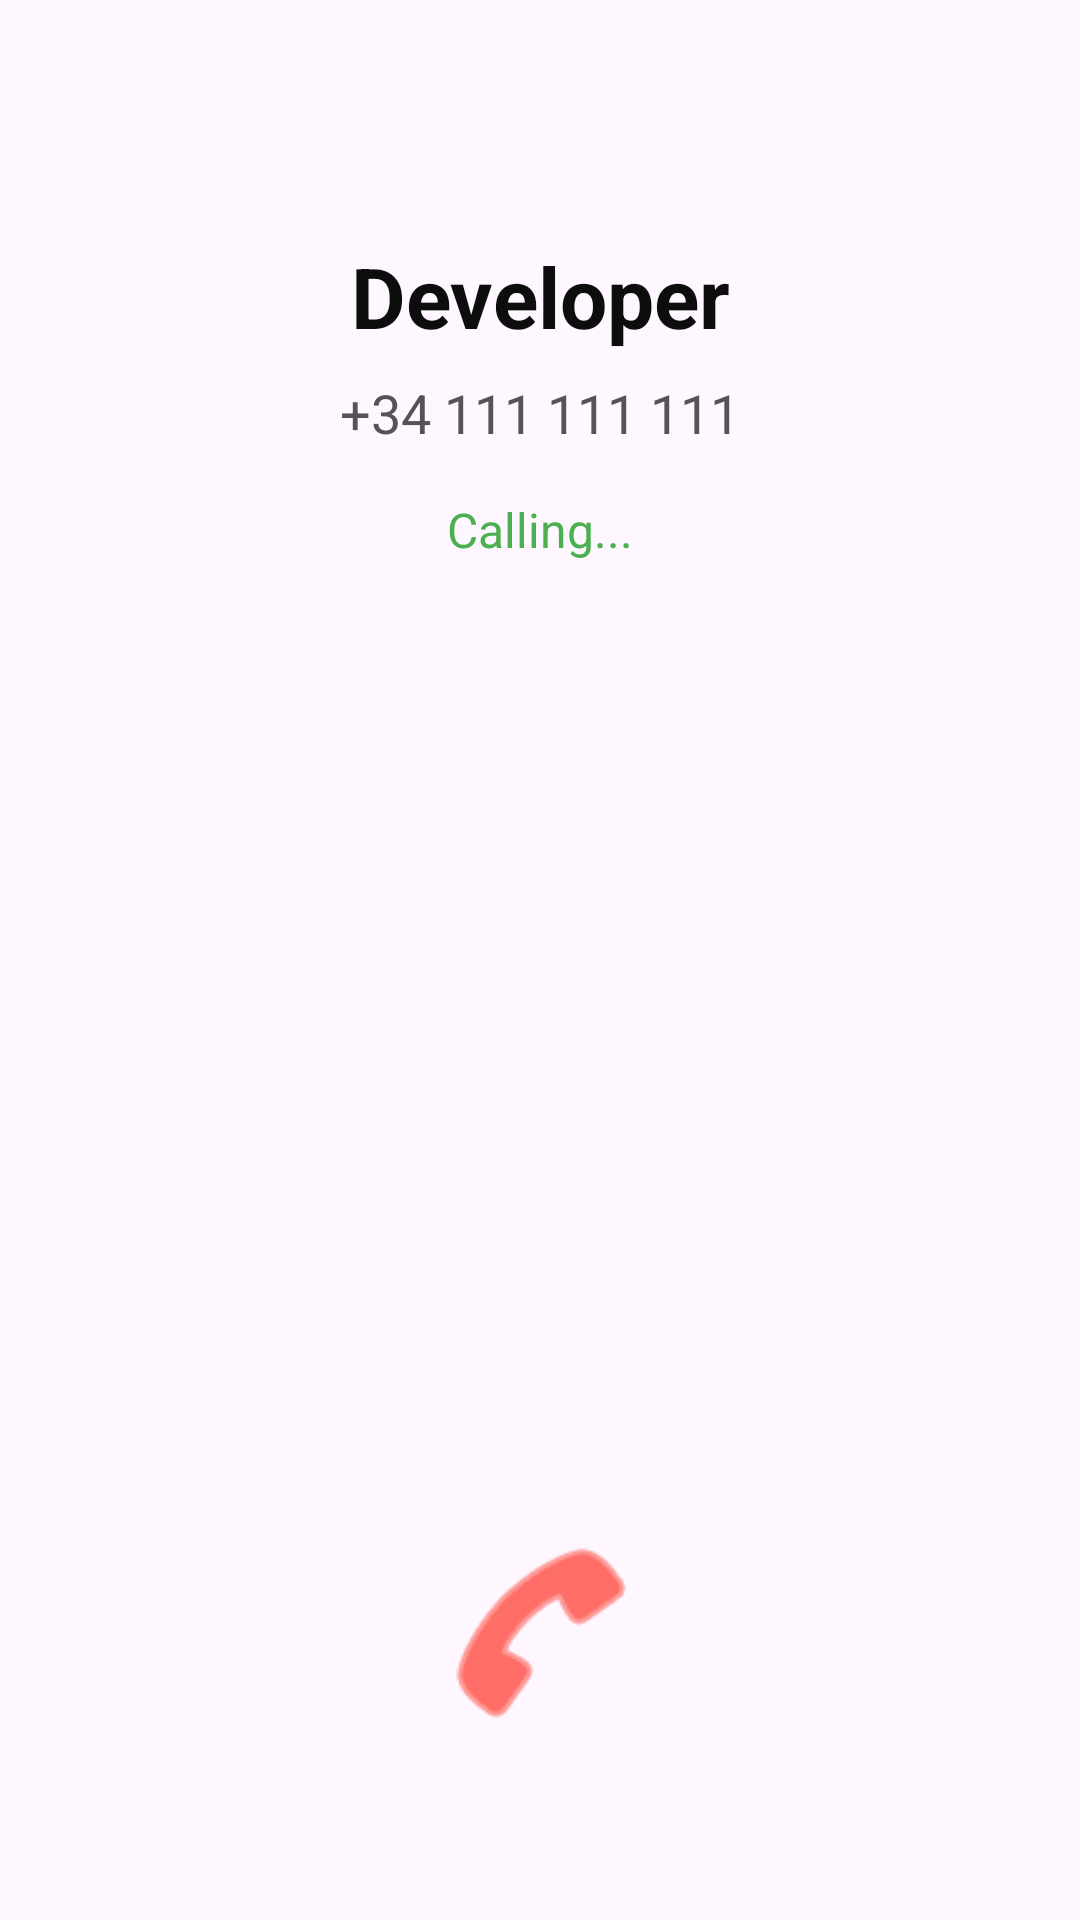

Icons on this 1080px×1920px Android screen, each with the point to tap as point (x, y):
call: point (541, 1633)
